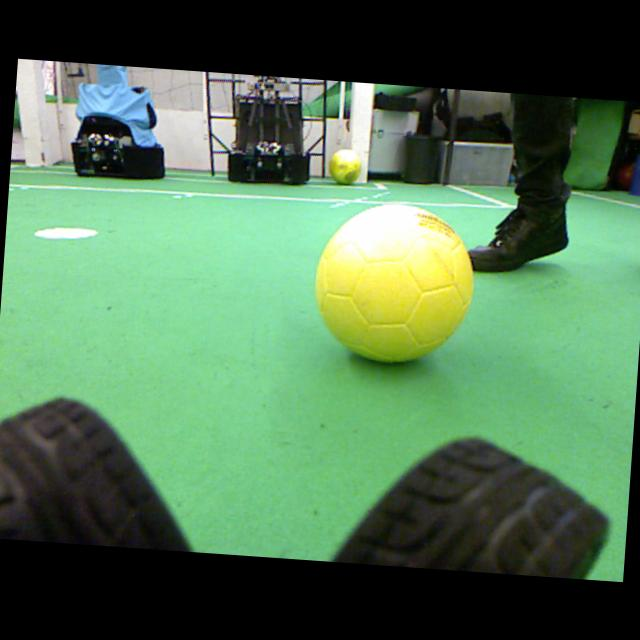ball: (314, 204, 474, 361), (328, 150, 361, 184)
goal: (15, 58, 44, 165), (352, 82, 374, 182)
robot: (227, 75, 309, 185)
